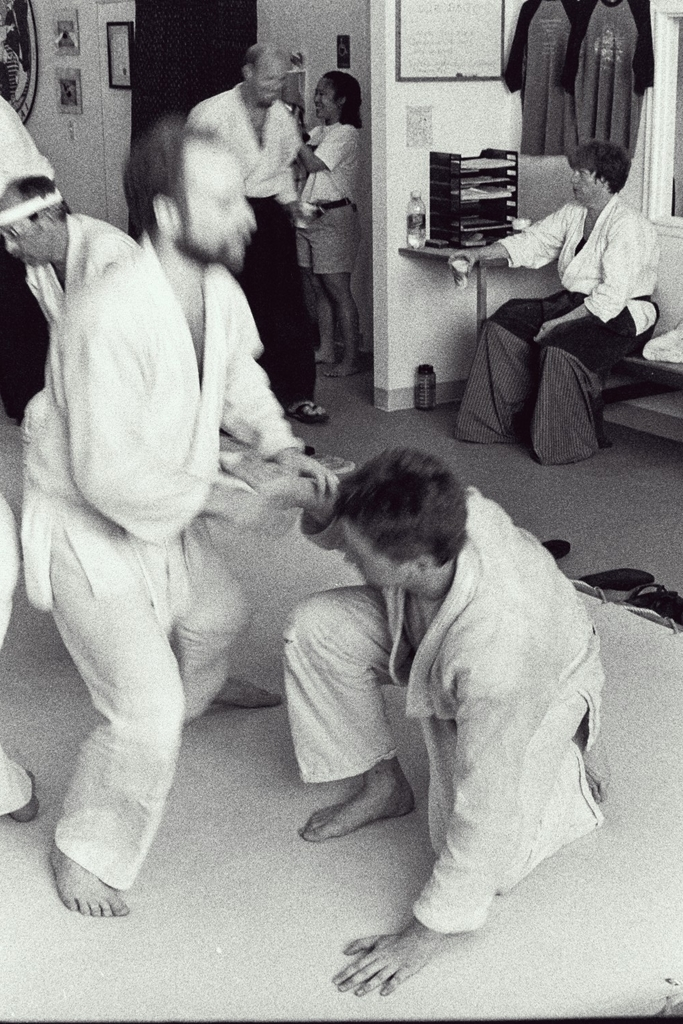Human_hand: (338, 931, 431, 1001), (225, 488, 297, 541), (276, 446, 339, 506), (262, 472, 315, 504), (447, 248, 482, 276), (533, 321, 552, 347), (288, 202, 306, 223)
